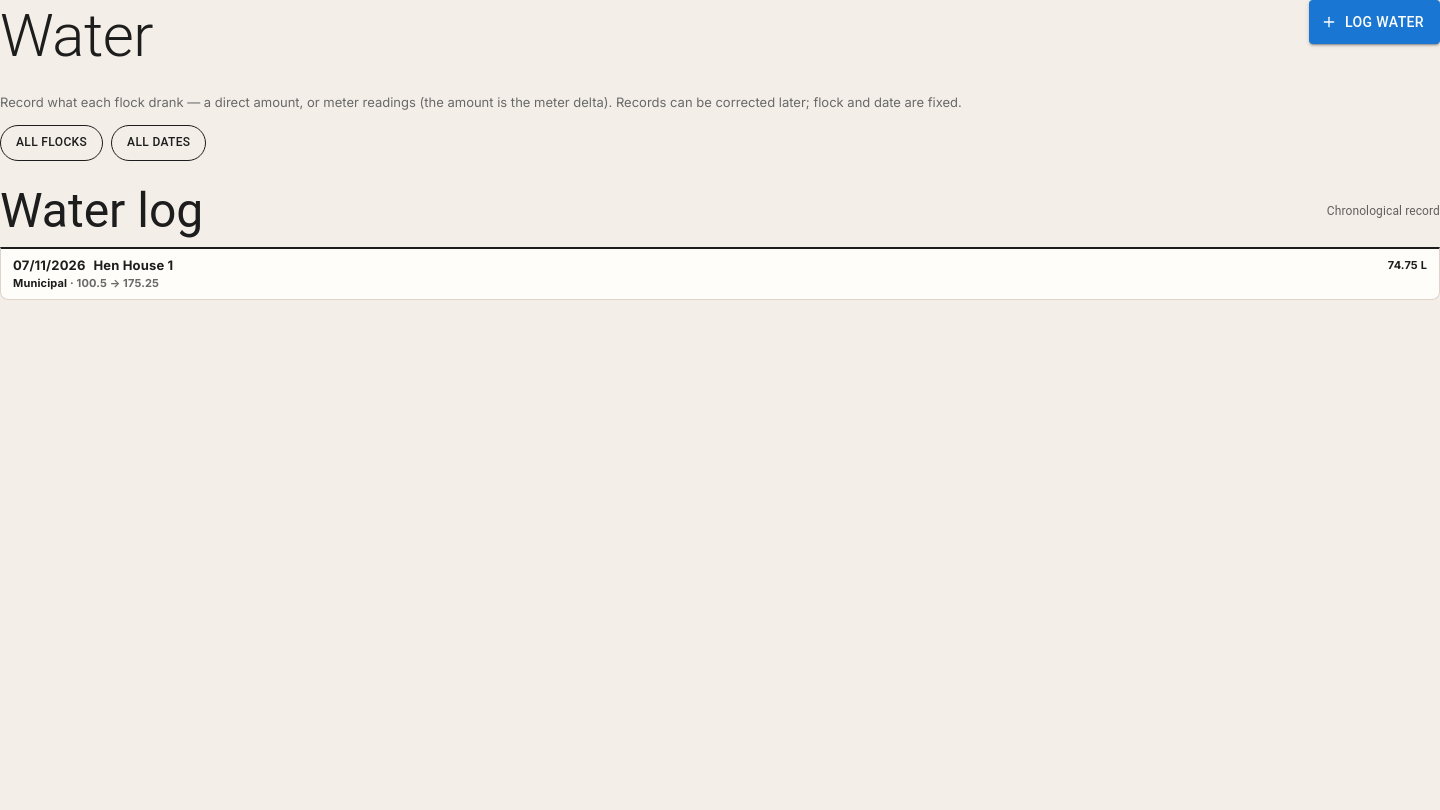
Test: shows a phone water row, its details and gated correction, and opens the log form
The image size is (1440, 810).
Click the button "07/11/2026 Hen House 1 74.75 L Municipal · 100.5 → 175.25" at (49, 265), box x1=1 y1=249 x2=1439 y2=299
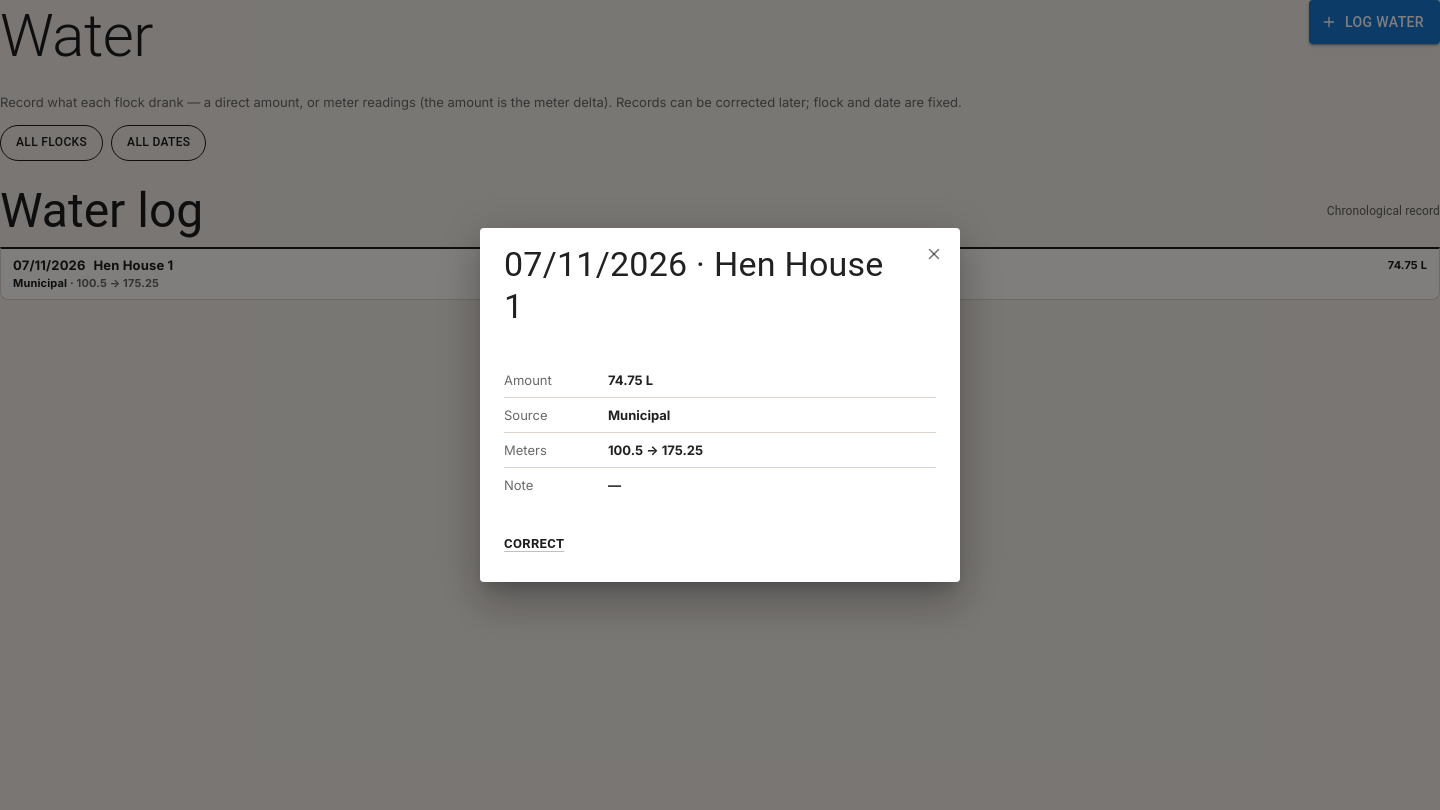
expect the text "Meters" is shown: met, box x1=504 y1=442 x2=547 y2=458
expect the text "Amount" is shown: met, box x1=504 y1=372 x2=552 y2=388
expect the text "Source" is shown: met, box x1=504 y1=408 x2=548 y2=424
Click the button "correct" at (534, 544), box x1=504 y1=522 x2=564 y2=566
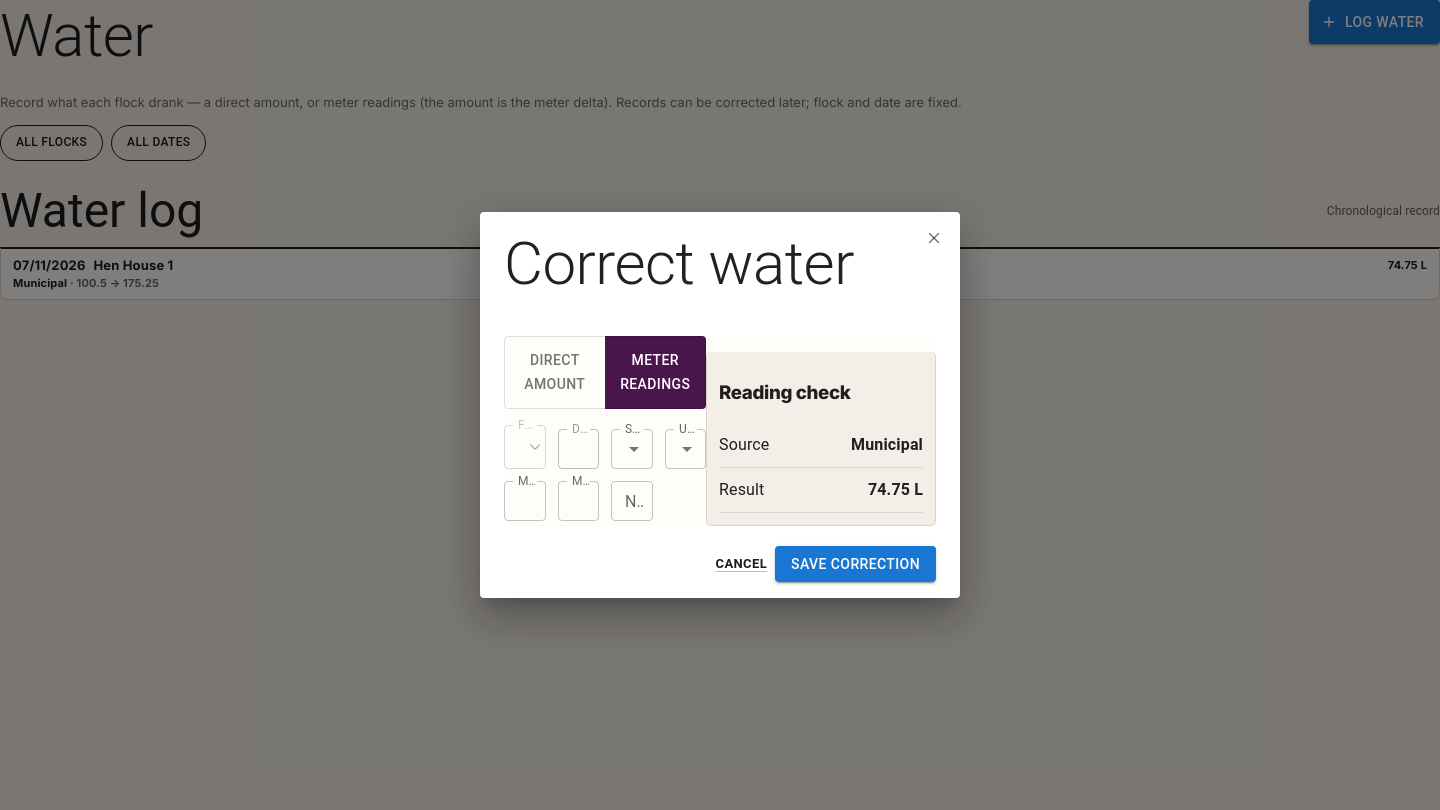
expect the button "Save correction" is shown: met, box x1=775 y1=546 x2=936 y2=582
Click the button named "close" at (934, 238), box x1=920 y1=224 x2=948 y2=252
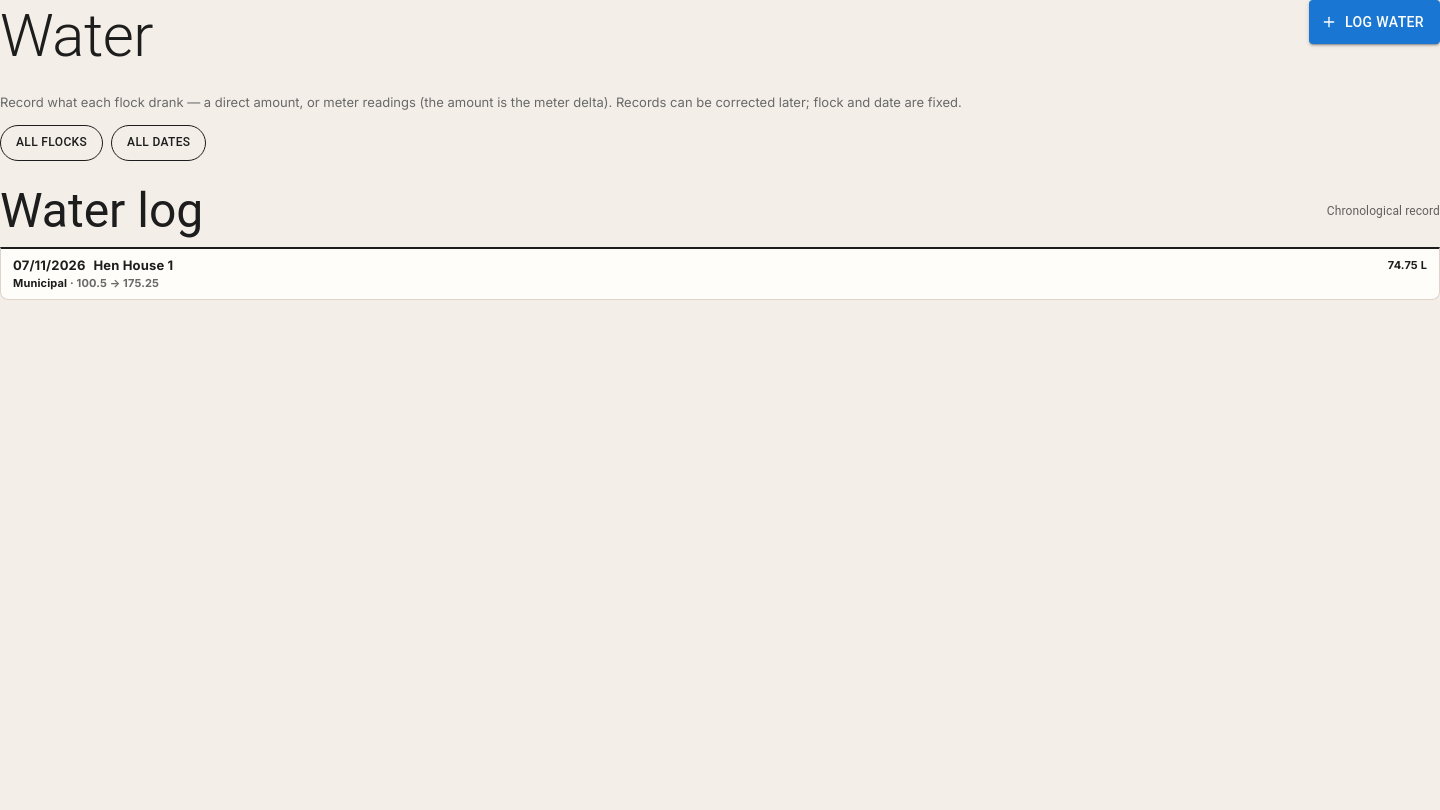
expect the dialog is gone: met
Click the button "Log water" at (1374, 22), box x1=1309 y1=0 x2=1439 y2=44
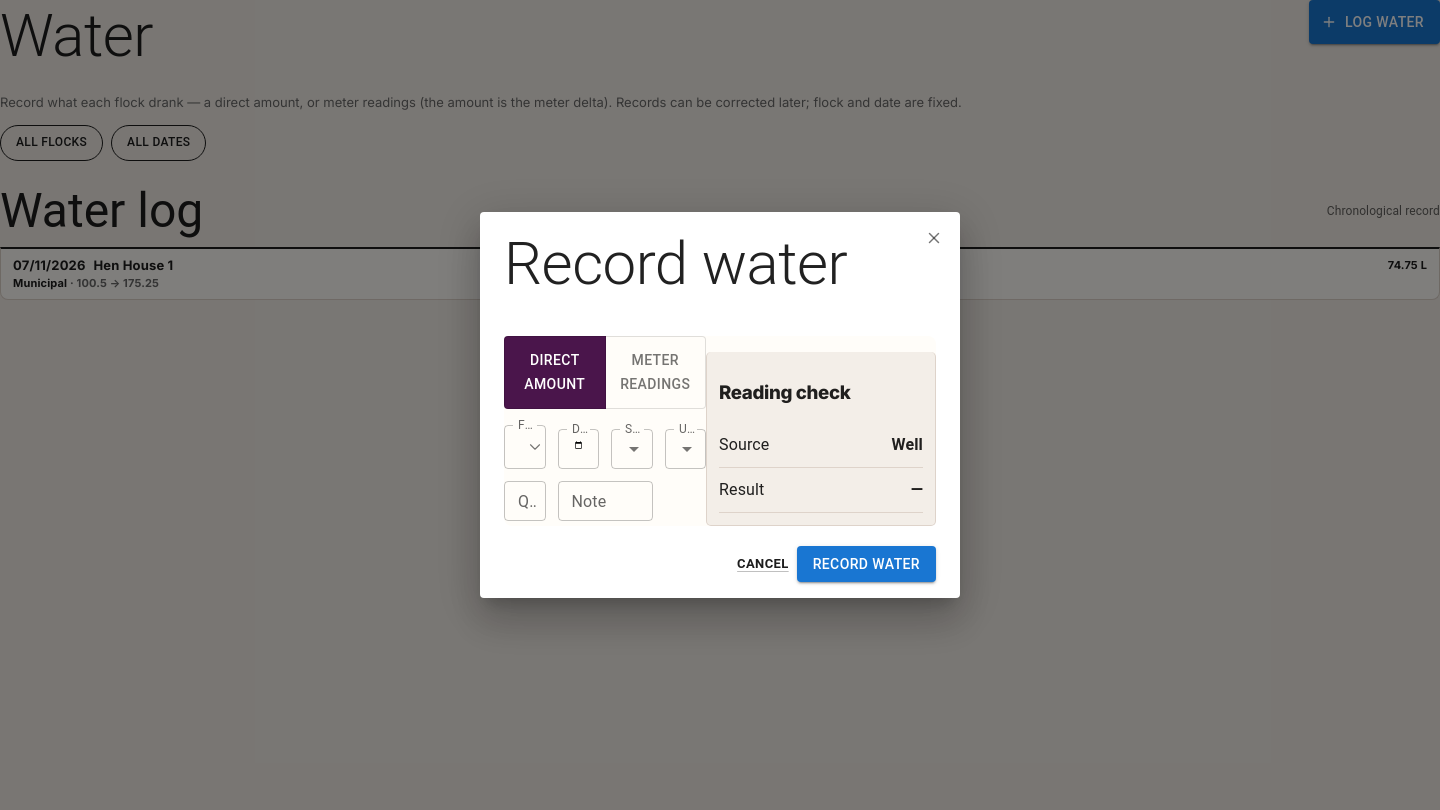
expect the date field labelled "Date" is shown: met, box x1=558 y1=429 x2=599 y2=469
